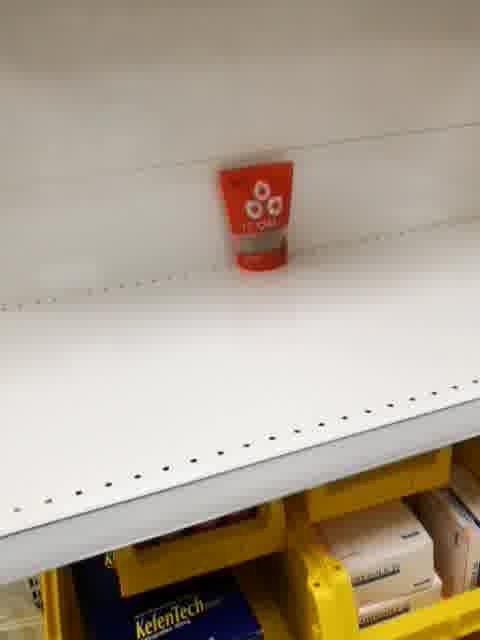whitechia: (215, 157, 302, 275)
